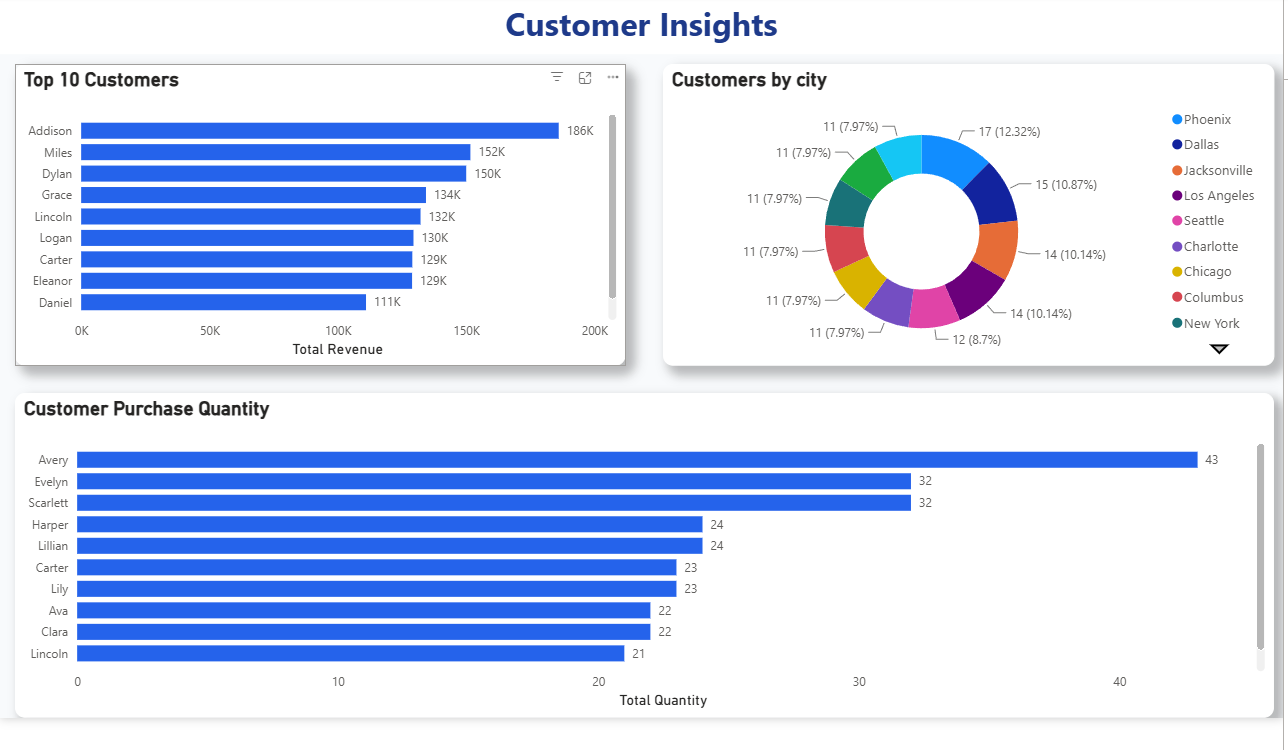

Layout of this report page (visuals, bound fields, positions):
{"tool":"powerbi","page":{"name":"Customer Insights","canvas":[1280,720],"ordinal":1},"visuals":[{"type":"textbox","box":[0,0,1280,58.2],"z":0},{"type":"clusteredBarChart","title":"Top 10 Customers","fields":{"Category":["analytics fact_orders.first_name"],"Y":["analytics fact_orders.Total Revenue"]},"box":[15.1,67.5,609,301.4],"z":1000},{"type":"donutChart","title":"Customers by city","fields":{"Category":["analytics dim_customers.city"],"Y":["analytics fact_orders.Total Customers"]},"box":[661.2,67.5,609.8,301.4],"z":2000},{"type":"clusteredBarChart","title":"Customer Purchase Quantity","fields":{"Category":["analytics dim_customers.first_name"],"Y":["Sum(analytics fact_orders.quantity)"]},"box":[15.1,396.1,1255.8,323.5],"z":3000}]}

Visuals, with their boxes on the page's 1280x720 design canvas (x1, y1, x2, y2). These are canvas units, not pixel positions in the 1288x750 screenshot, which may show the page scaled, cropped or inside an application window:
textbox: {"left": 0, "top": 0, "right": 1280, "bottom": 58}
"Top 10 Customers" clusteredBarChart: {"left": 15, "top": 68, "right": 624, "bottom": 369}
"Customers by city" donutChart: {"left": 661, "top": 68, "right": 1271, "bottom": 369}
"Customer Purchase Quantity" clusteredBarChart: {"left": 15, "top": 396, "right": 1271, "bottom": 720}
